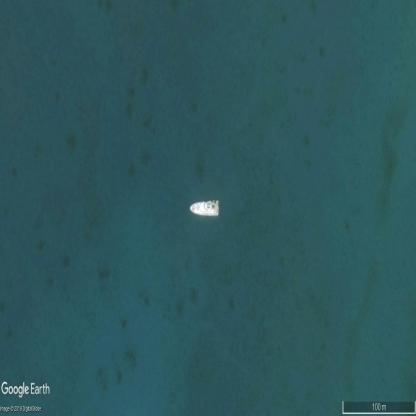ship: (190, 200, 218, 216)
